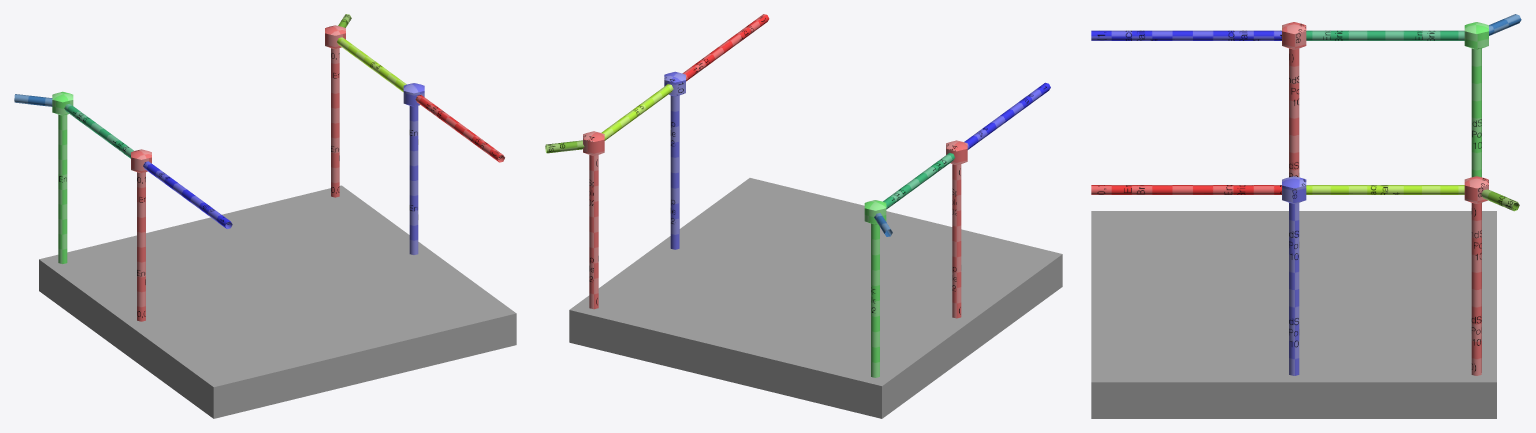
File: bridge_intercection_T_enter.fbx
3 views of the same model, side by side, from view 1: azimuth 30°, elevation 25°; view 2: azimuth 150°, elevation 25°; view 3: azimuth 270°, elevation 25° (orthographic). The views are drawn at different scales.
Parts seen in each view (by area): view 1: bridge_intercection_T_enter_floor, bridge_intercection_T_enter; view 2: bridge_intercection_T_enter_floor, bridge_intercection_T_enter; view 3: bridge_intercection_T_enter_floor, bridge_intercection_T_enter.
Boxes of the visible parts, bbox=[...] form: bridge_intercection_T_enter_floor: bbox=[39, 185, 516, 418]; bridge_intercection_T_enter: bbox=[14, 14, 504, 321]; bridge_intercection_T_enter_floor: bbox=[569, 178, 1062, 418]; bridge_intercection_T_enter: bbox=[545, 14, 1050, 377]; bridge_intercection_T_enter_floor: bbox=[1091, 211, 1496, 418]; bridge_intercection_T_enter: bbox=[1091, 14, 1521, 375].
Bounding box in the file's own units: 223 × 126 × 212.
